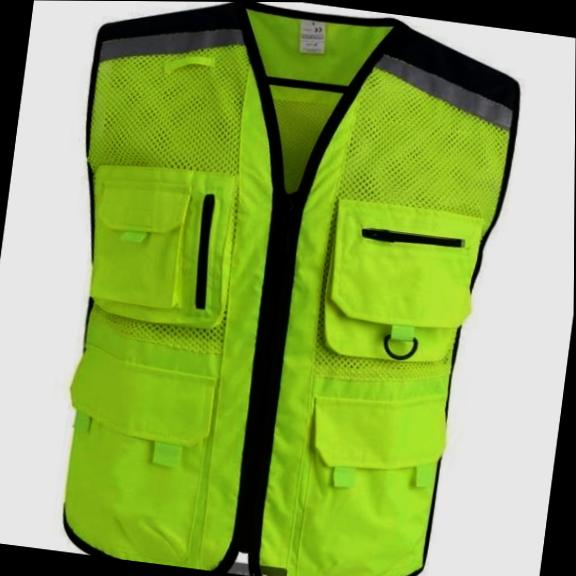safety_vest: (29, 0, 535, 576)
